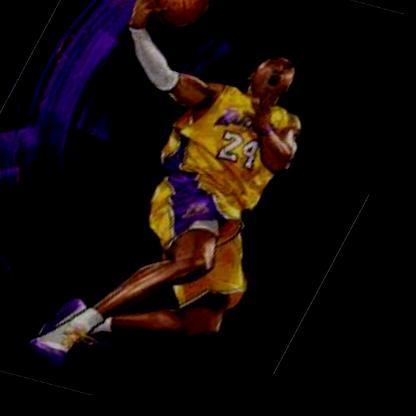basketball: (133, 0, 222, 45)
